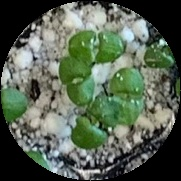Basil: (72, 96, 115, 146), (67, 31, 124, 63), (59, 57, 96, 106), (114, 66, 144, 123), (144, 40, 172, 76)
